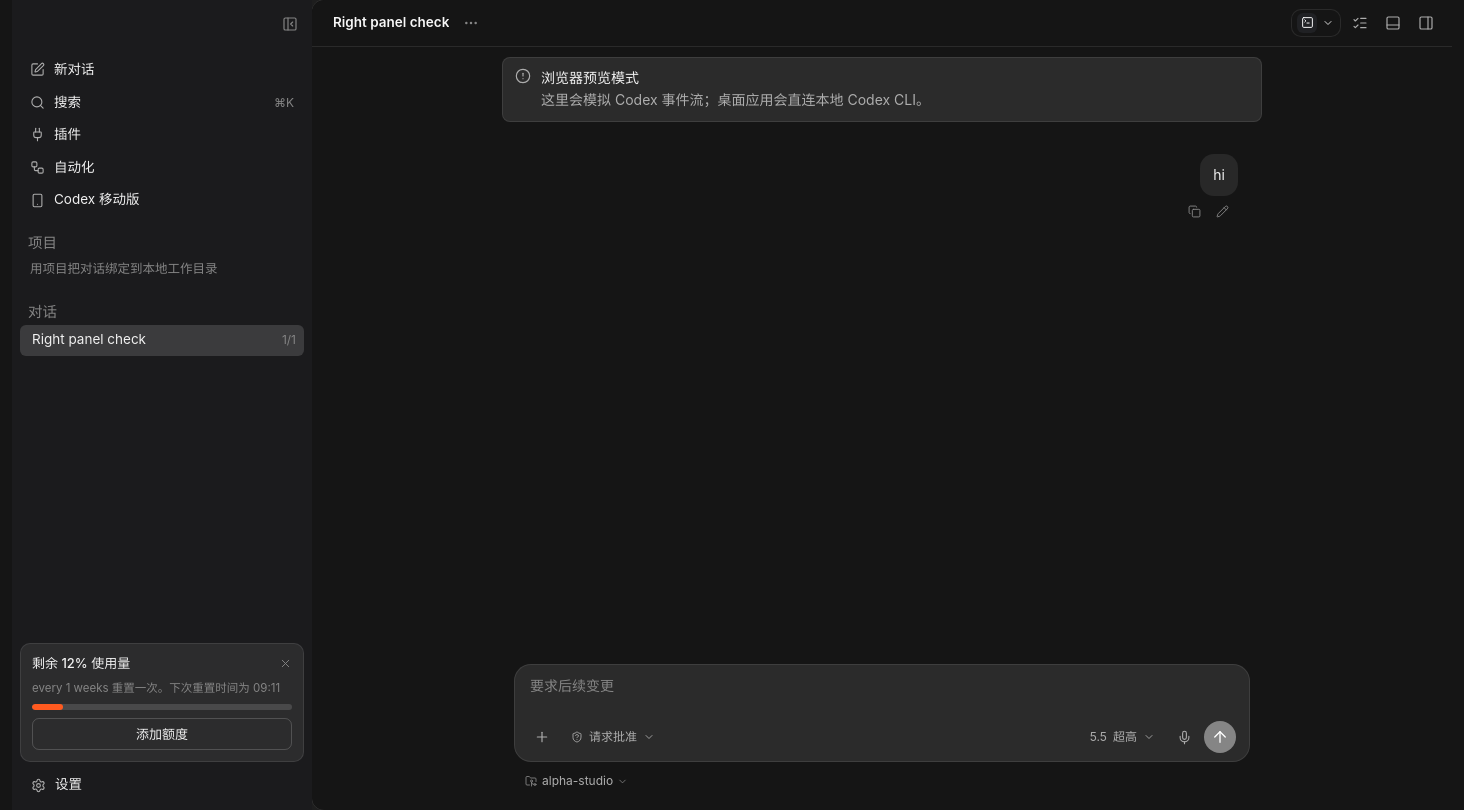
Test: right feature panel › opens the Codex-style environment card from the right-top toolbar
Step 1. Click the button named "环境信息" → (1360, 22), box [1345,8,1374,37]
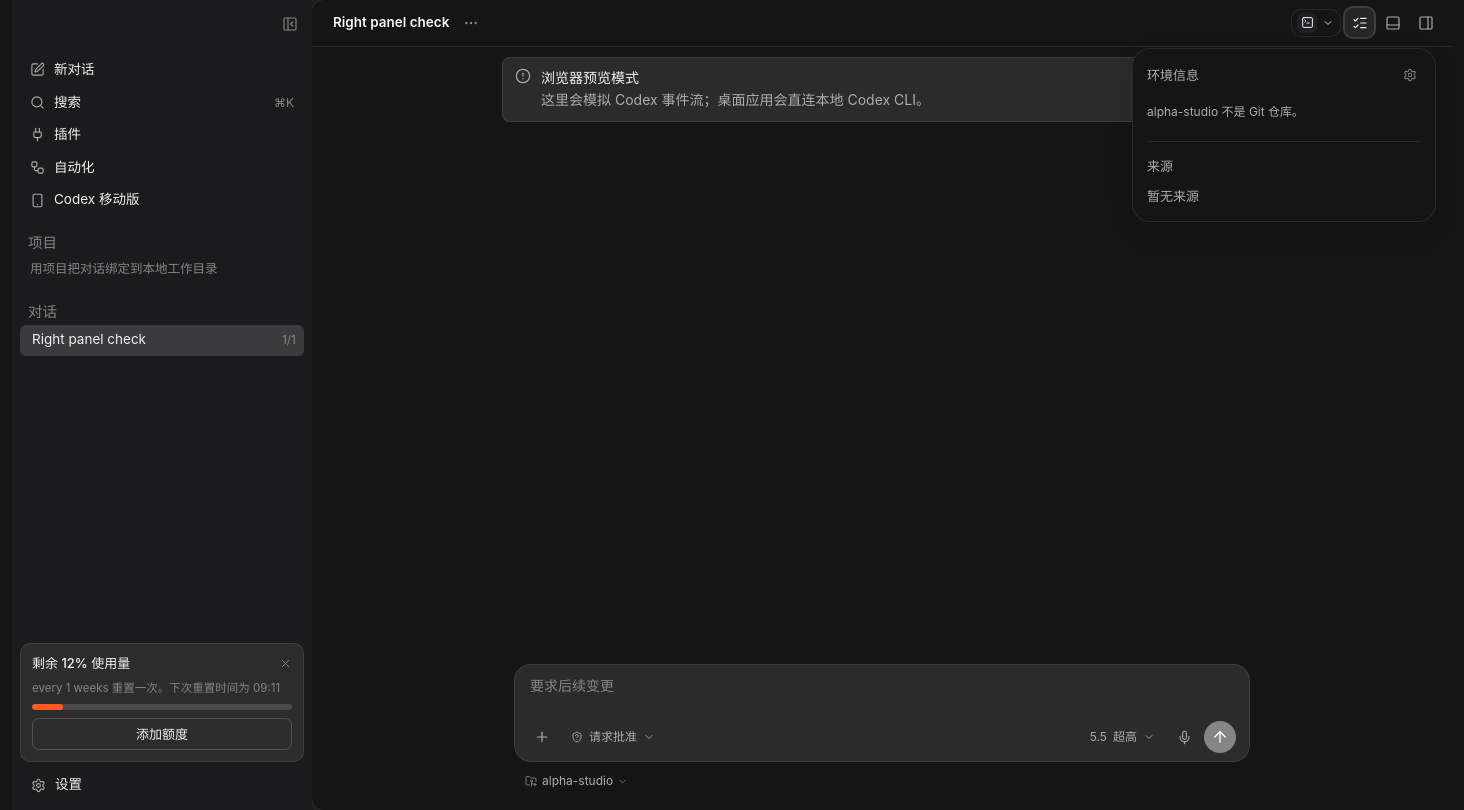
Expected: the menu with class "environment-menu" is shown, [1132,48,1436,222]
Expected: the text "环境信息" is shown, [1147,64,1199,84]
Expected: the text "alpha-studio 不是 Git 仓库。" is shown, [1147,104,1304,119]
